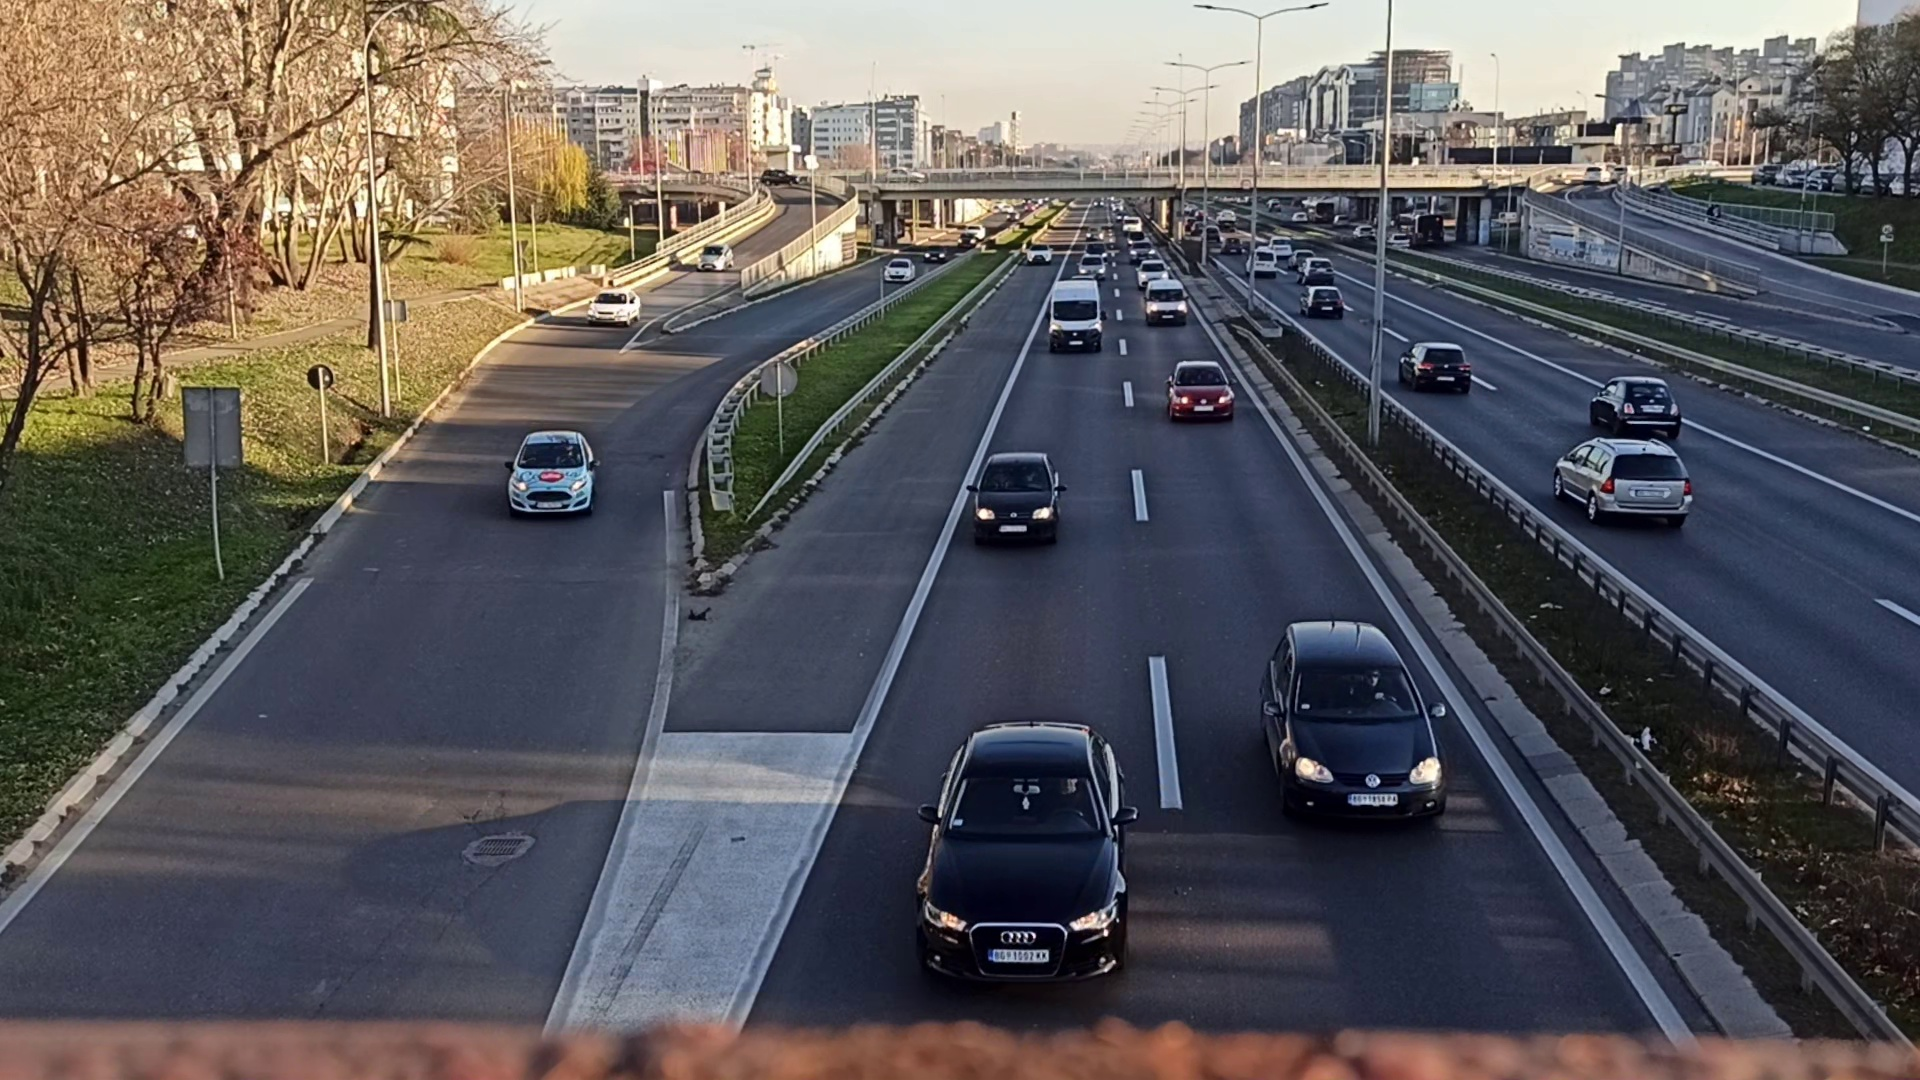car: (910, 719, 1135, 994), (1251, 622, 1451, 836), (1553, 434, 1693, 530), (968, 450, 1063, 545), (510, 429, 596, 520), (1590, 375, 1680, 435), (1168, 356, 1236, 425), (1399, 339, 1470, 394), (1142, 278, 1188, 334), (591, 289, 640, 324), (694, 243, 735, 272), (880, 261, 918, 284)
van: (1044, 280, 1102, 355)
